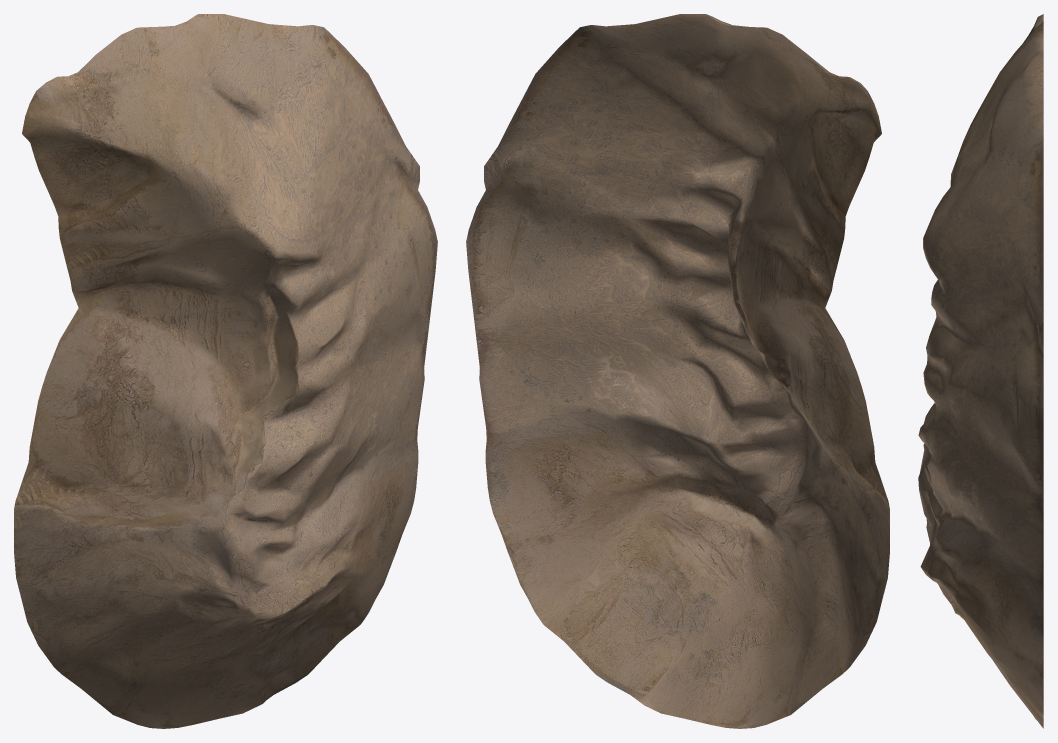
File: hd_env_UNI_114_SandHeap_02.fbx
The picture shows the model from 3 angles, left to right: view 1: azimuth 30°, elevation 25°; view 2: azimuth 150°, elevation 25°; view 3: azimuth 270°, elevation 25°; orthographic projection. The views are drawn at different scales.
Parts seen in each view (by area): view 1: set_0_group_0; view 2: set_0_group_0; view 3: set_0_group_0.
Part boxes in pixels (x1=…): set_0_group_0: x1=14, y1=14, x2=437, y2=728; set_0_group_0: x1=466, y1=14, x2=889, y2=728; set_0_group_0: x1=918, y1=14, x2=1043, y2=728.
Size of the model in its own units: 1428 by 2291 by 401.
1 material, 1 textured.
